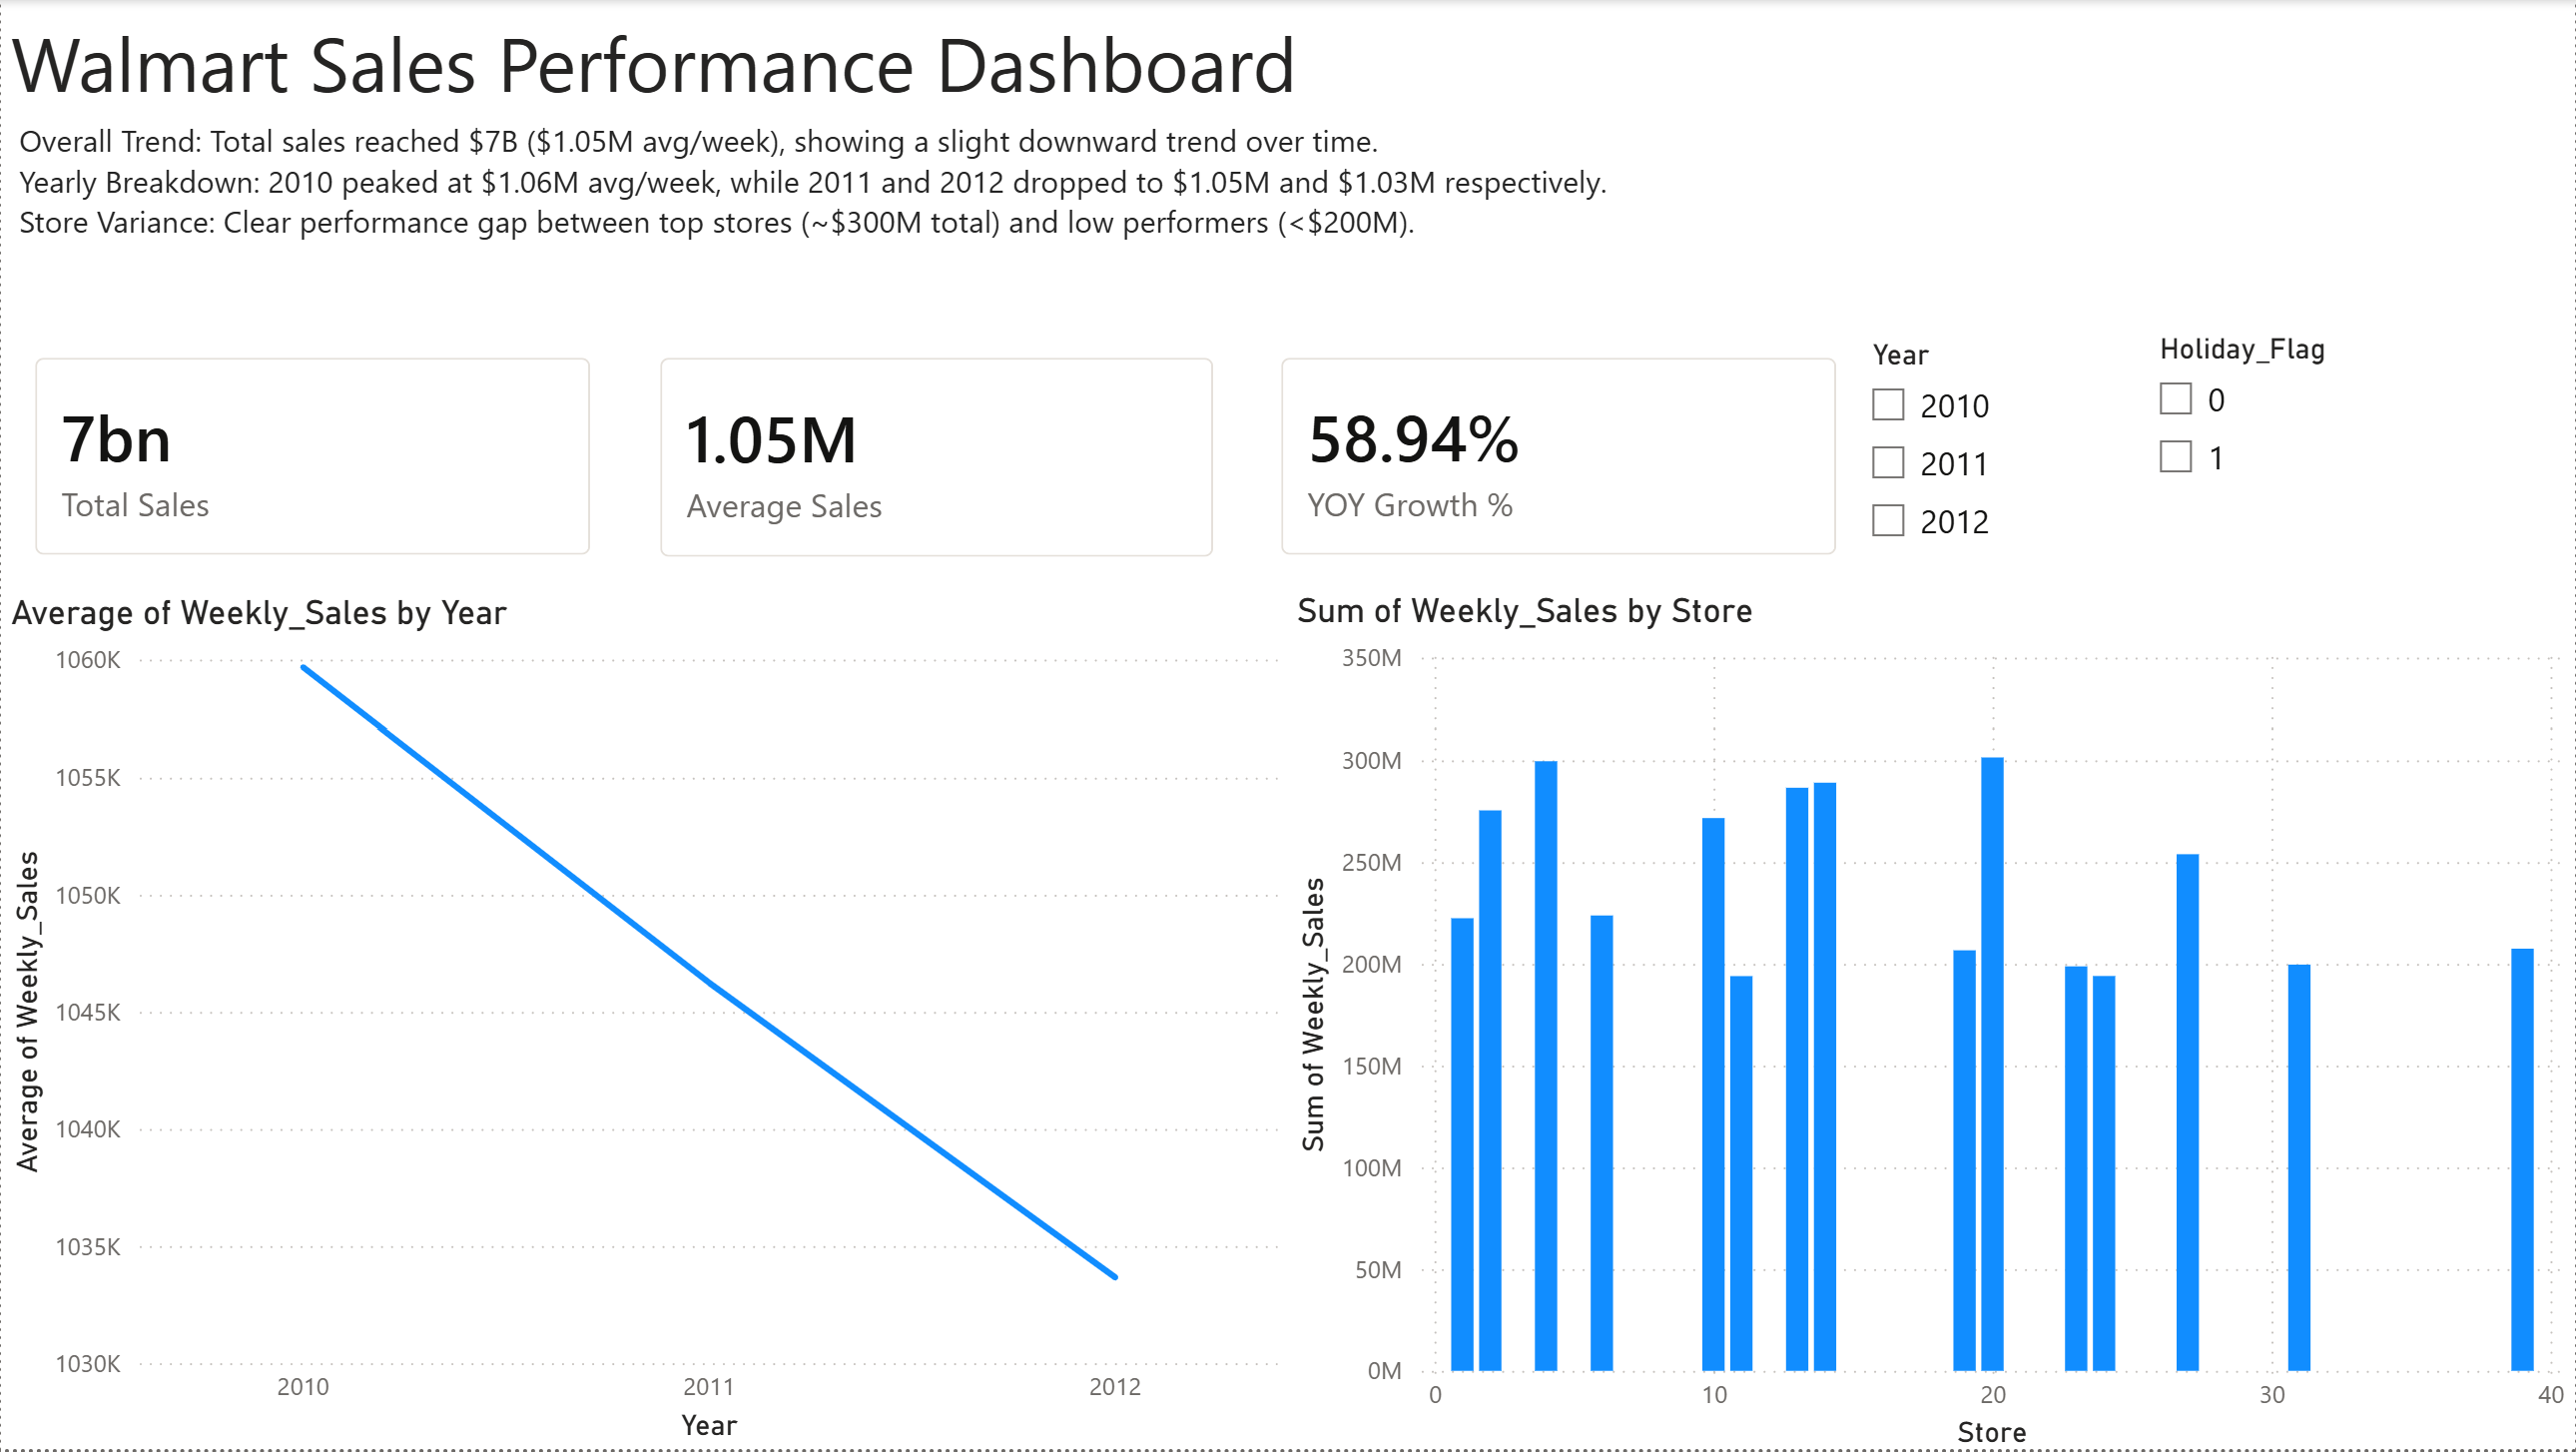

What the dashboard file says about the page in this screenshot:
{"tool":"powerbi","page":{"name":"Sales Summary","canvas":[1280,720],"ordinal":0},"visuals":[{"type":"cardVisual","fields":{"Data":["Measure-.Total Sales"]},"box":[0,161.2,310.4,132.3],"z":0},{"type":"cardVisual","fields":{"Data":["Measure-.Avrerage Sales"]},"box":[310.4,161.2,309.2,133.5],"z":1000},{"type":"cardVisual","fields":{"Data":["Measure-.YOY Growth %"]},"box":[619.5,161.2,310.4,132.3],"z":2000},{"type":"lineChart","fields":{"Y":["Avg(Fact-Sales.Weekly_Sales)"],"Category":["Dim-Date.Year"]},"box":[0,294.7,640,425.9],"z":3000},{"type":"clusteredColumnChart","fields":{"Category":["Dim-Store.Store"],"Y":["Sum(Fact-Sales.Weekly_Sales)"]},"box":[640,293.5,641.2,430.7],"z":4000},{"type":"slicer","fields":{"Values":["Dim-Date.Year"]},"box":[917.9,162.4,143.2,132.3],"z":5000},{"type":"textbox","box":[0,0,661.4,72.9],"z":6000},{"type":"slicer","fields":{"Values":["Dim-Date.Holiday_Flag"]},"box":[1061.1,160,151.6,133.5],"z":7000},{"type":"textbox","box":[0,54.1,1120,107.1],"z":8000}]}

Visuals, with their boxes in screenshot pixels (x1, y1, x2, y2), scaled from the page's 1280x720 canvas onto the 2576x1452 screenshot:
cardVisual - Measure-.Total Sales: (x1=0, y1=326, x2=625, y2=592)
cardVisual - Measure-.Avrerage Sales: (x1=625, y1=326, x2=1247, y2=594)
cardVisual - Measure-.YOY Growth %: (x1=1247, y1=326, x2=1871, y2=592)
lineChart - Avg(Fact-Sales.Weekly_Sales) x Dim-Date.Year: (x1=0, y1=594, x2=1288, y2=1451)
clusteredColumnChart - Dim-Store.Store x Sum(Fact-Sales.Weekly_Sales): (x1=1288, y1=592, x2=2575, y2=1451)
slicer - Dim-Date.Year: (x1=1847, y1=328, x2=2136, y2=594)
textbox: (x1=0, y1=0, x2=1331, y2=147)
slicer - Dim-Date.Holiday_Flag: (x1=2136, y1=323, x2=2440, y2=592)
textbox: (x1=0, y1=109, x2=2254, y2=326)
